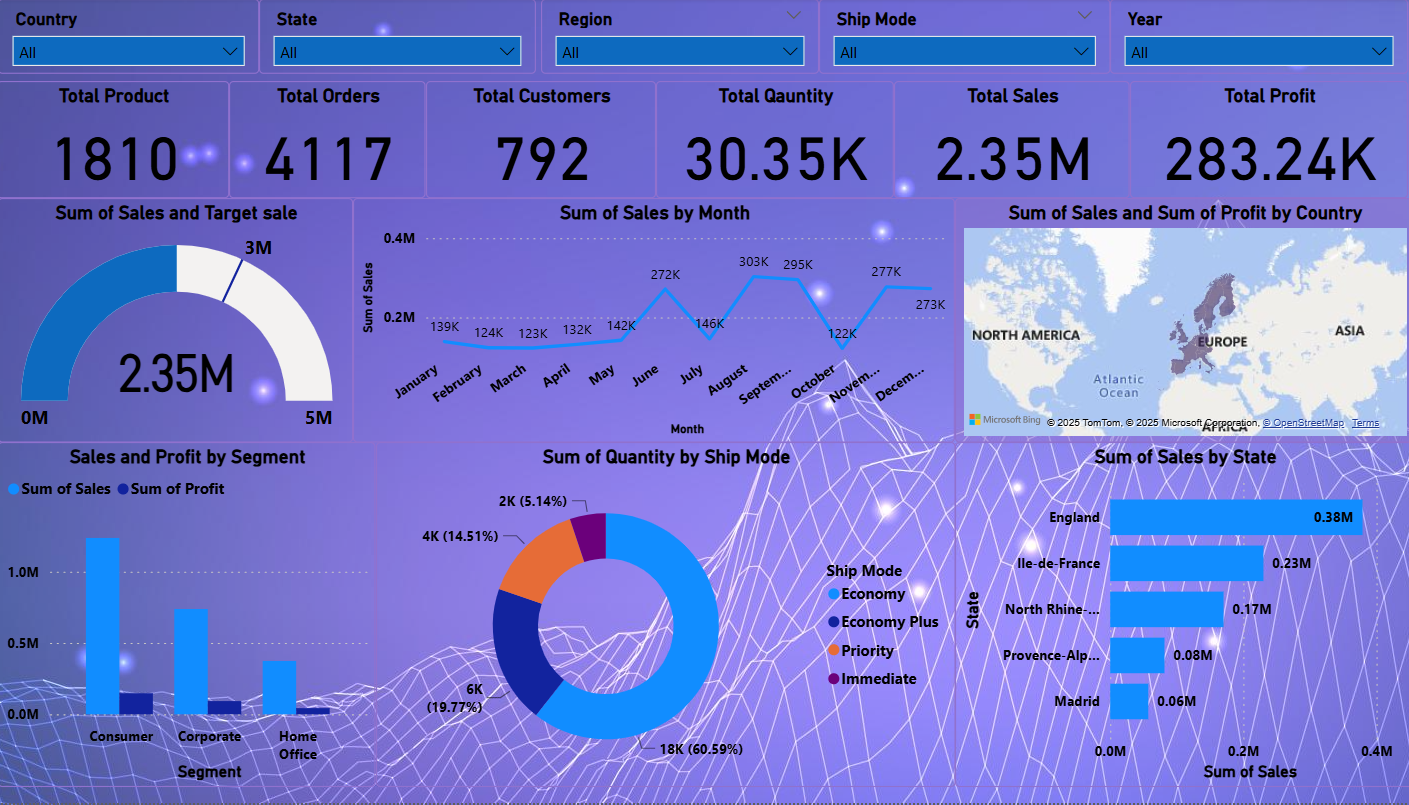

This screenshot's page, from the dashboard's own definition file:
{"tool":"powerbi","page":{"name":"Dashboard","canvas":[1280,720],"ordinal":0},"visuals":[{"type":"slicer","fields":{"Values":["ListOfOrders.Country"]},"box":[9.9,0,233.7,67.2],"z":0},{"type":"slicer","fields":{"Values":["ListOfOrders.State"]},"box":[243.6,0,248.1,67.2],"z":1000},{"type":"slicer","fields":{"Values":["ListOfOrders.Region"]},"box":[496.1,0,249,67.2],"z":2000},{"type":"slicer","fields":{"Values":["ListOfOrders.Ship Mode"]},"box":[745.1,0,260.6,67.2],"z":3000},{"type":"slicer","fields":{"Values":["ListOfOrders.Ship Date.Variation.Date Hierarchy.Year"]},"box":[1005.7,0,266.9,67.2],"z":4000},{"type":"card","title":"Total Product","fields":{"Values":["Count(OrderBreakdown.Product Name)"]},"box":[9,73.4,207.8,104.8],"z":5000},{"type":"card","title":"Total Orders","fields":{"Values":["Count(OrderBreakdown.Order ID)"]},"box":[216.7,73.4,176.4,104.8],"z":6000},{"type":"card","title":"Total Customers","fields":{"Values":["Count(ListOfOrders.Customer Name)"]},"box":[393.1,73.4,206,104.8],"z":7000},{"type":"card","title":"Total Qauntity","fields":{"Values":["Sum(OrderBreakdown.Quantity)"]},"box":[599.1,73.4,213.1,104.8],"z":8000},{"type":"card","title":"Total Sales","fields":{"Values":["Sum(OrderBreakdown.Sales)"]},"box":[812.2,73.4,211.3,104.8],"z":9000},{"type":"card","title":"Total Profit","fields":{"Values":["Sum(OrderBreakdown.Profit)"]},"box":[1023.6,73.4,249,104.8],"z":10000},{"type":"filledMap","fields":{"Category":["ListOfOrders.Country"]},"box":[866.9,178.2,411,218.5],"z":11000},{"type":"gauge","fields":{"Y":["Sum(OrderBreakdown.Sales)"],"TargetValue":["OrderBreakdown.Target sale"]},"box":[9.9,178.2,317.9,218.5],"z":12000},{"type":"lineChart","fields":{"Category":["ListOfOrders.Order Date.Variation.Date Hierarchy.Year","ListOfOrders.Order Date.Variation.Date Hierarchy.Quarter","ListOfOrders.Order Date.Variation.Date Hierarchy.Month","ListOfOrders.Order Date.Variation.Date Hierarchy.Day"],"Y":["Sum(OrderBreakdown.Sales)"]},"box":[327.8,178.2,539.1,218.5],"z":13000},{"type":"clusteredColumnChart","title":"Sales and Profit by Segment","fields":{"Category":["ListOfOrders.Segment"],"Y":["Sum(OrderBreakdown.Sales)","Sum(OrderBreakdown.Profit)"]},"box":[9.9,396.7,337.6,309],"z":14000},{"type":"donutChart","fields":{"Category":["ListOfOrders.Ship Mode"],"Y":["Sum(OrderBreakdown.Quantity)"]},"box":[348.4,396.7,518.5,309],"z":15000},{"type":"clusteredBarChart","fields":{"Category":["ListOfOrders.State"],"Y":["Sum(OrderBreakdown.Sales)"]},"box":[866.9,396.7,411,309],"z":16000}]}

Visuals, with their boxes in screenshot pixels (x1, y1, x2, y2), scaled from the page's 1280x720 canvas onto the 1409x805 screenshot:
slicer - ListOfOrders.Country: <box>11,0,268,75</box>
slicer - ListOfOrders.State: <box>268,0,541,75</box>
slicer - ListOfOrders.Region: <box>546,0,820,75</box>
slicer - ListOfOrders.Ship Mode: <box>820,0,1107,75</box>
slicer - ListOfOrders.Ship Date.Variation.Date Hierarchy.Year: <box>1107,0,1401,75</box>
"Total Product" card: <box>10,82,239,199</box>
"Total Orders" card: <box>239,82,433,199</box>
"Total Customers" card: <box>433,82,659,199</box>
"Total Qauntity" card: <box>659,82,894,199</box>
"Total Sales" card: <box>894,82,1127,199</box>
"Total Profit" card: <box>1127,82,1401,199</box>
filledMap - ListOfOrders.Country: <box>954,199,1407,444</box>
gauge - Sum(OrderBreakdown.Sales) x OrderBreakdown.Target sale: <box>11,199,361,444</box>
lineChart - ListOfOrders.Order Date.Variation.Date Hierarchy.Year x ListOfOrders.Order Date.Variation.Date Hierarchy.Quarter: <box>361,199,954,444</box>
"Sales and Profit by Segment" clusteredColumnChart: <box>11,444,383,789</box>
donutChart - ListOfOrders.Ship Mode x Sum(OrderBreakdown.Quantity): <box>384,444,954,789</box>
clusteredBarChart - ListOfOrders.State x Sum(OrderBreakdown.Sales): <box>954,444,1407,789</box>
